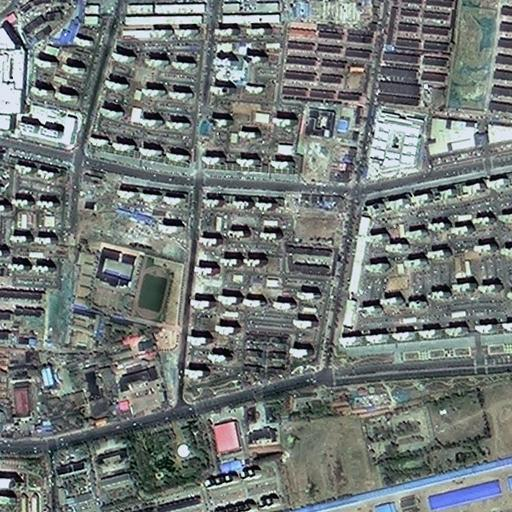school: (66, 242, 185, 331), (296, 101, 336, 189)
